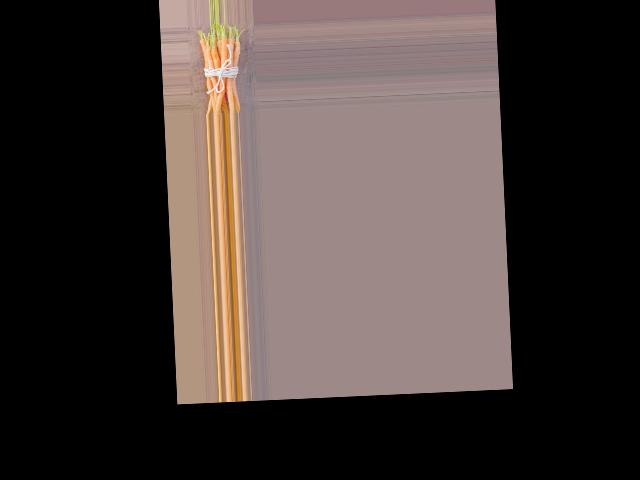carrot: (231, 33, 245, 112)
